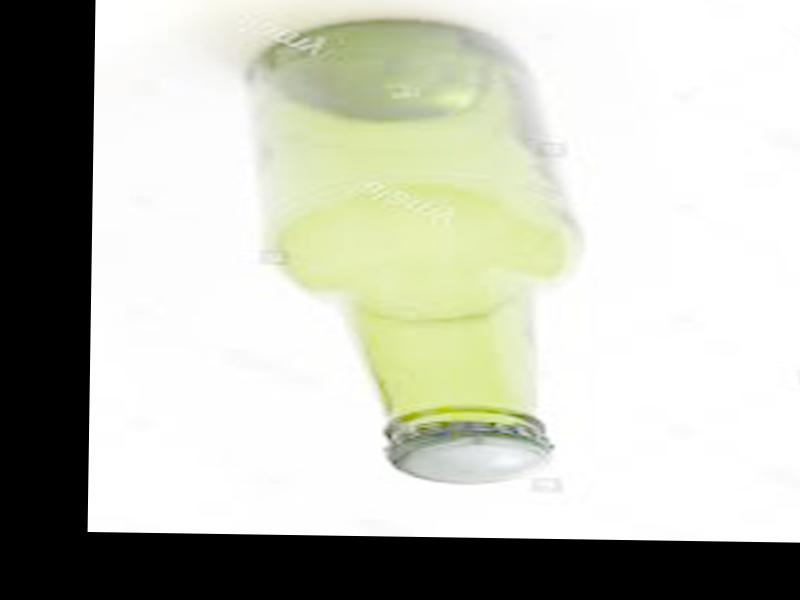Beer: (242, 18, 561, 485)
